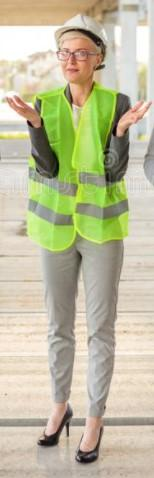hat: (54, 15, 107, 48)
low quality vest: (35, 88, 127, 235)
no boots: (35, 398, 112, 460)
